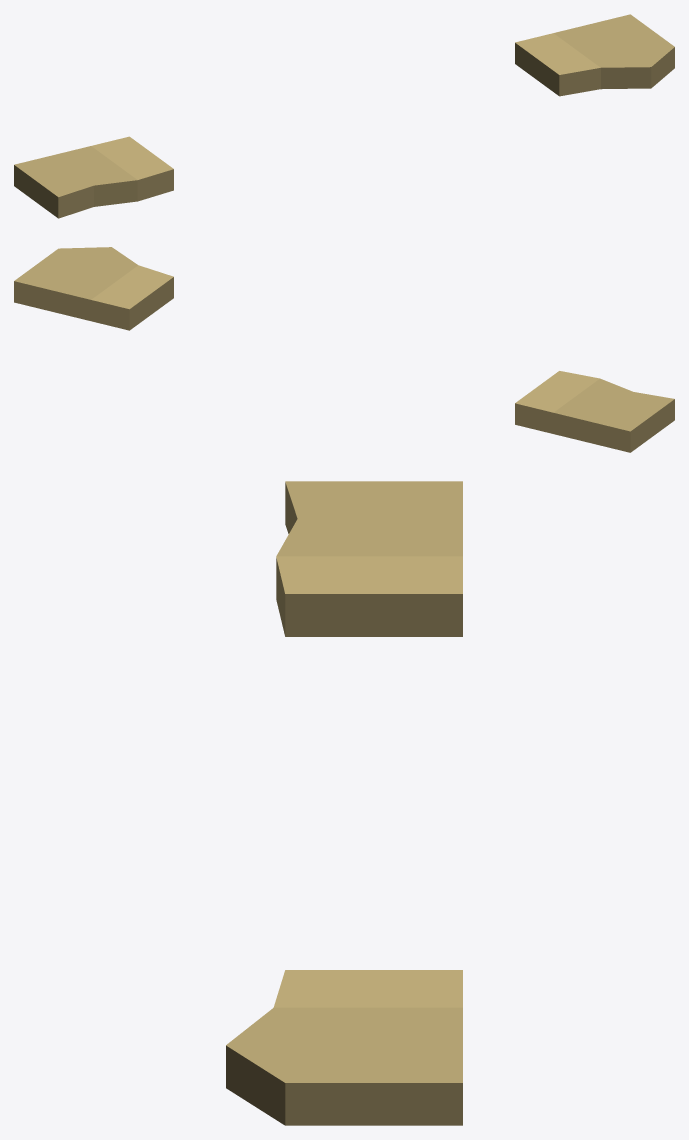
The model's file is edge_mouth_sand.glb.
The picture shows the model from 3 angles, top to bottom: view 1: azimuth 30°, elevation 25°; view 2: azimuth 150°, elevation 25°; view 3: azimuth 270°, elevation 25°; orthographic projection. The views are drawn at different scales.
Visible parts, largest first — view 1: edge_mouth_sand; view 2: edge_mouth_sand; view 3: edge_mouth_sand.
Part boxes in pixels (bbox=[...]): edge_mouth_sand: bbox=[14, 14, 674, 218]; edge_mouth_sand: bbox=[14, 247, 674, 452]; edge_mouth_sand: bbox=[226, 481, 462, 1125].
Bounding box in the file's own units: 3.2 × 0.106 × 0.5334.
